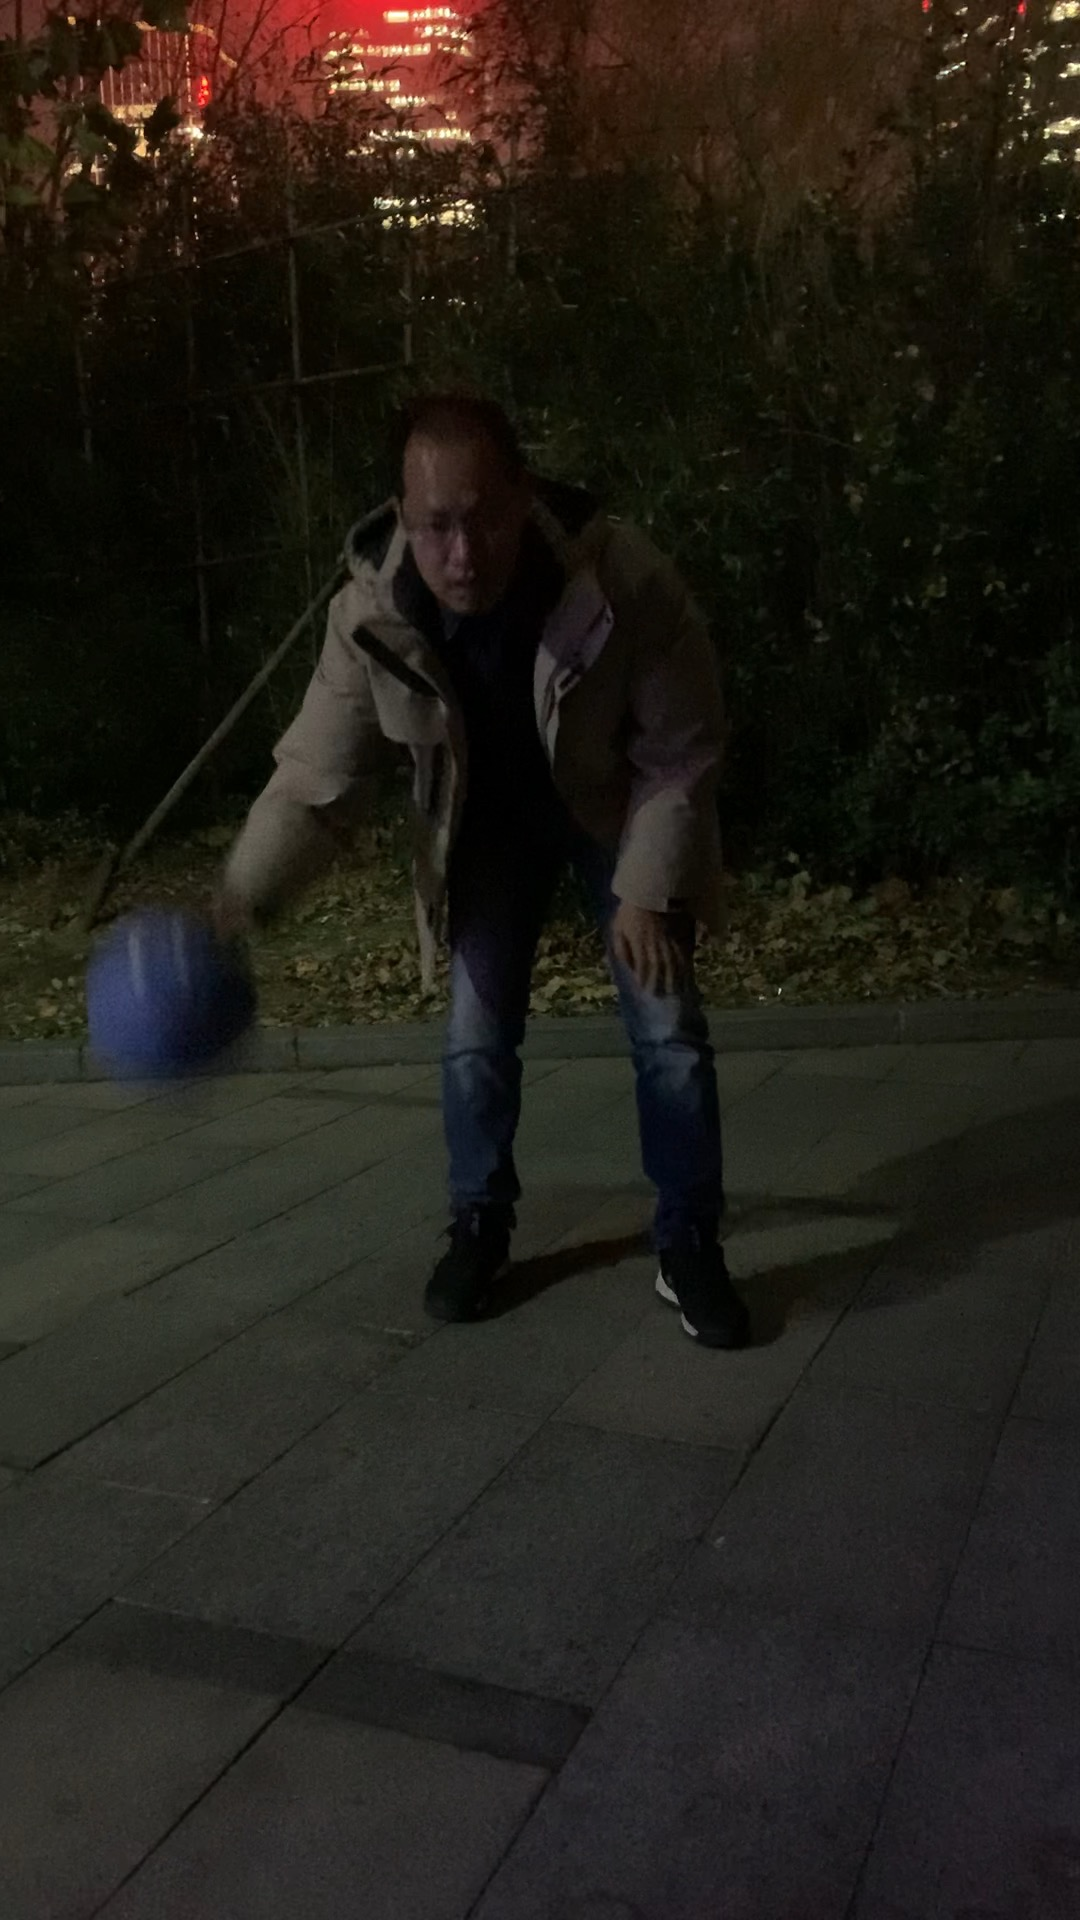ball: (94, 909, 266, 1076)
